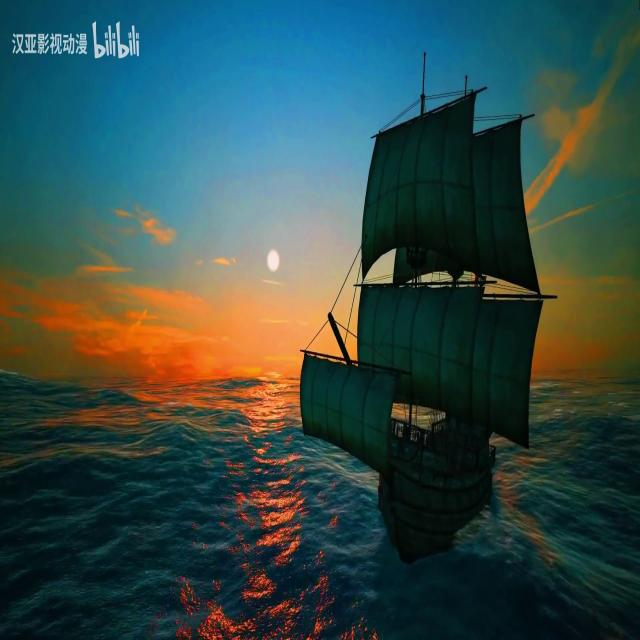sailboat: (299, 46, 537, 550)
